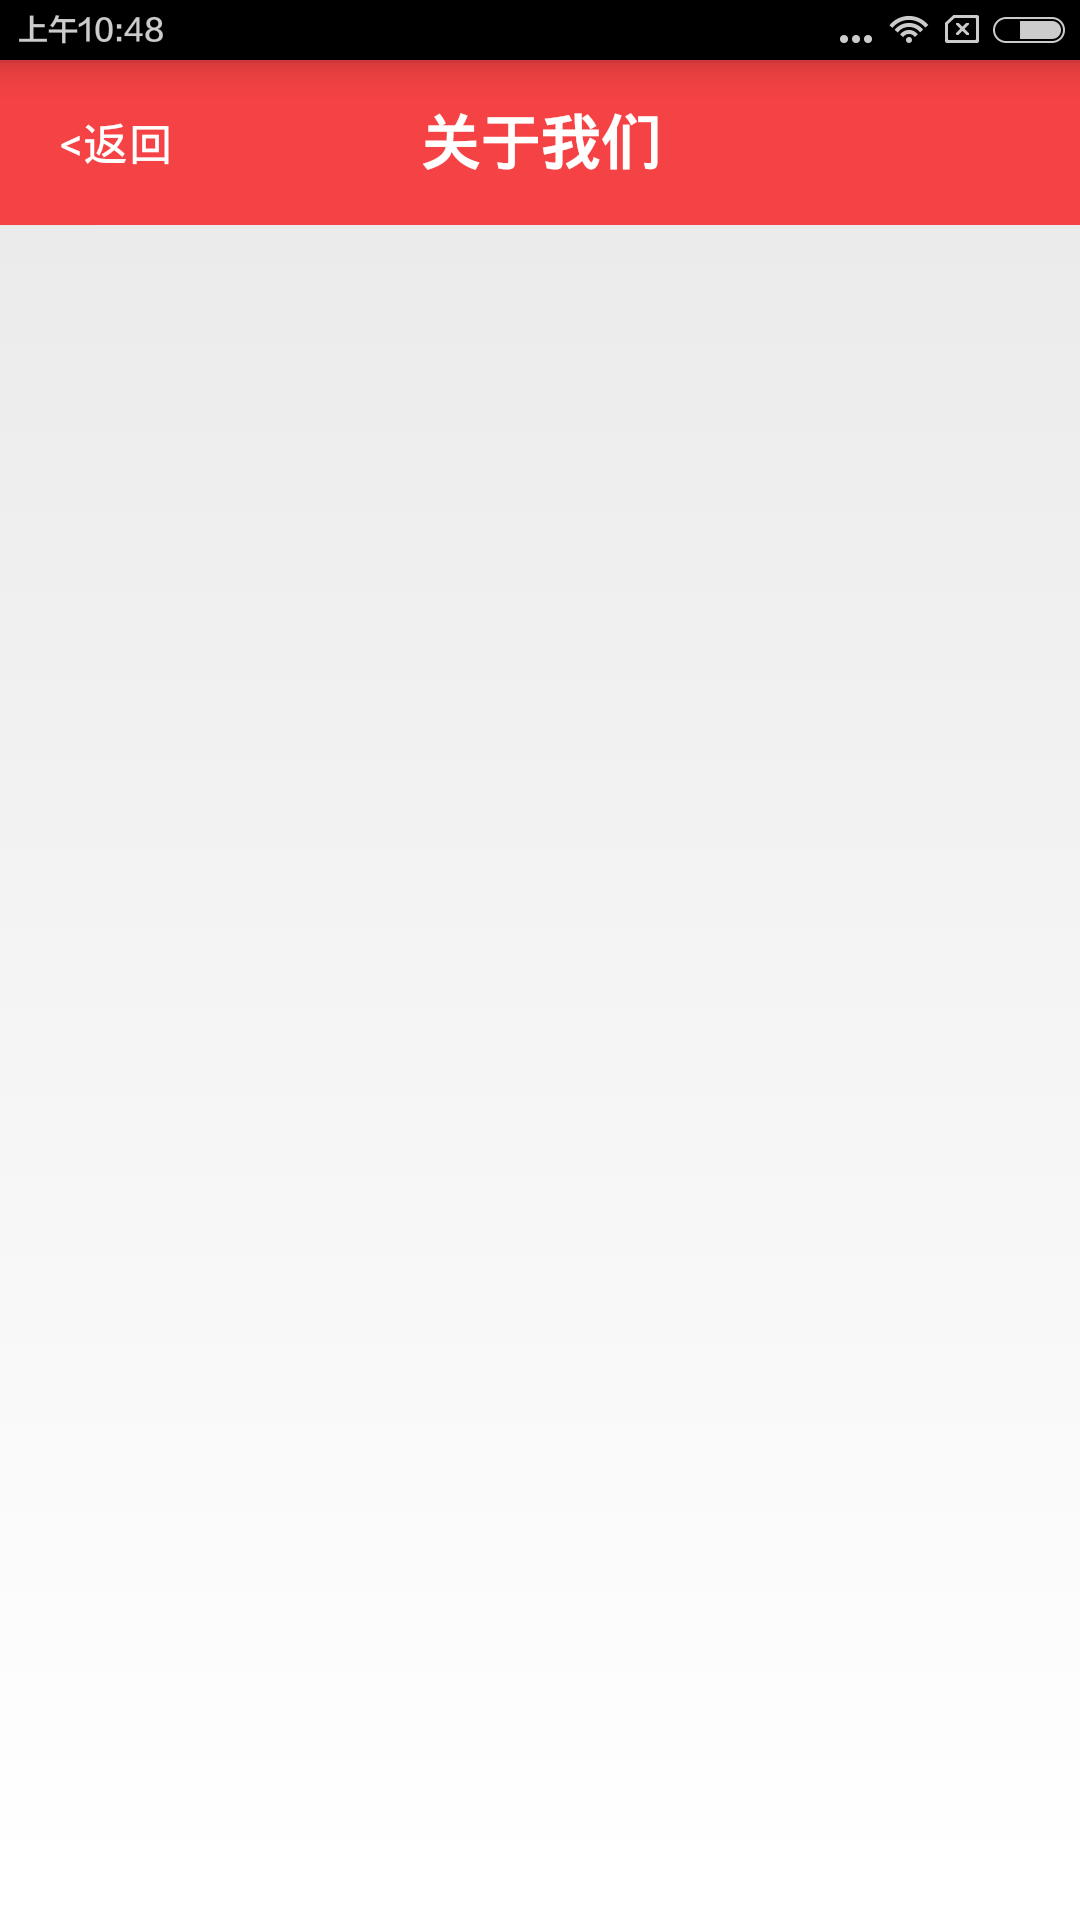textview: (400, 94, 676, 186)
